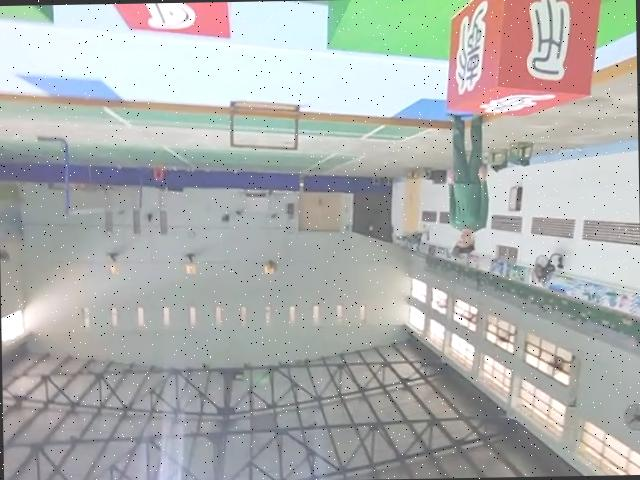R2 Fake: (446, 0, 613, 116)
R2 Real: (102, 2, 243, 45)
